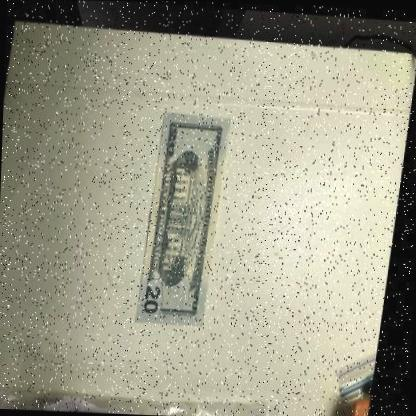twenty-back: (141, 110, 233, 328)
